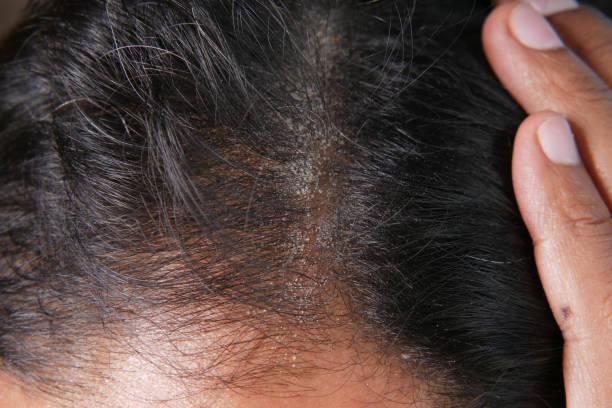dandruff: (268, 148, 330, 205), (279, 275, 336, 328), (269, 343, 311, 379), (296, 18, 332, 46), (389, 339, 421, 368), (299, 79, 320, 101)
